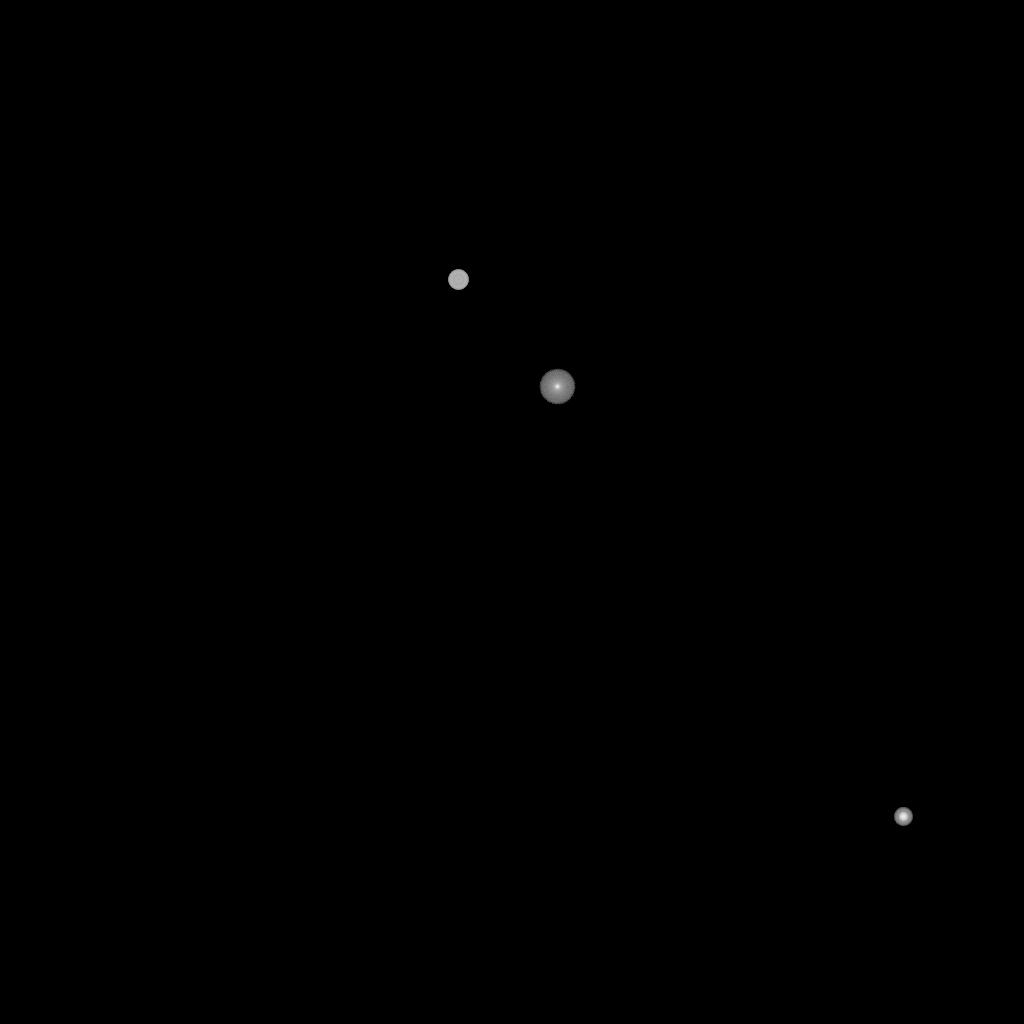depth:-20: (894, 808, 912, 826)
depth:-40: (448, 270, 468, 290)
depth:0: (539, 369, 575, 405)
